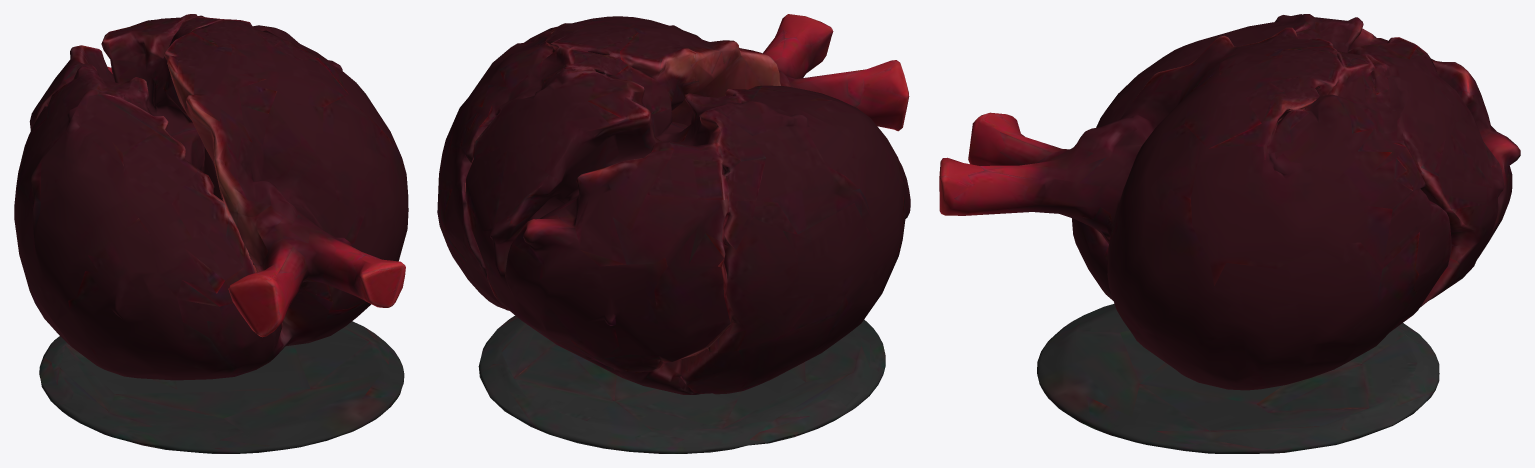
Rendered from spleen.glb.
The picture shows the model from 3 angles, left to right: view 1: azimuth 30°, elevation 25°; view 2: azimuth 150°, elevation 25°; view 3: azimuth 270°, elevation 25°; orthographic projection. The views are drawn at different scales.
Visible parts, largest first — view 1: Mesh_0; view 2: Mesh_0; view 3: Mesh_0.
Part boxes in pixels (x1=…): Mesh_0: x1=14, y1=14, x2=408, y2=453; Mesh_0: x1=437, y1=14, x2=910, y2=453; Mesh_0: x1=939, y1=14, x2=1520, y2=453.
Size of the model in its own units: 1.45 by 1.21 by 1.89.
Materials: 1 (1 with a texture image).
